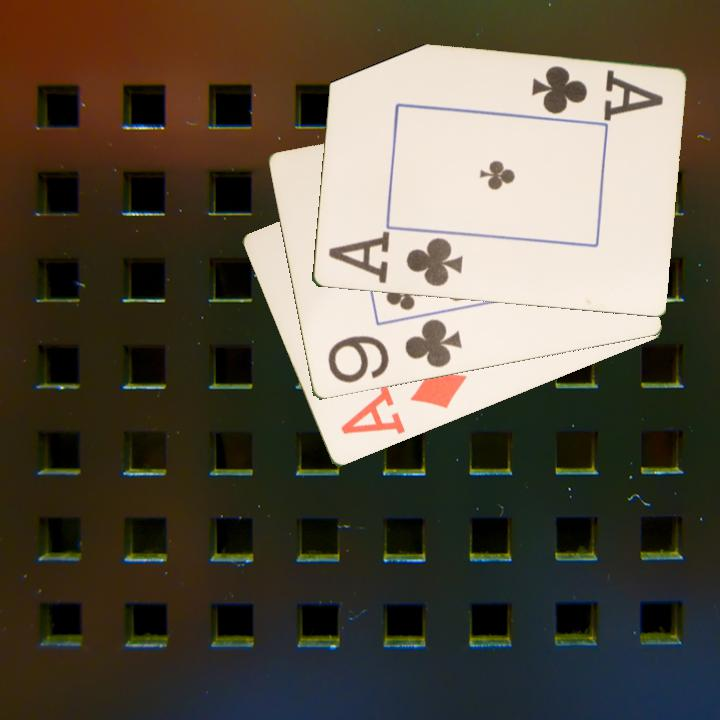9c: (324, 316, 464, 387)
Ac: (324, 230, 466, 290), (527, 63, 666, 123)
Ad: (336, 364, 470, 438)
